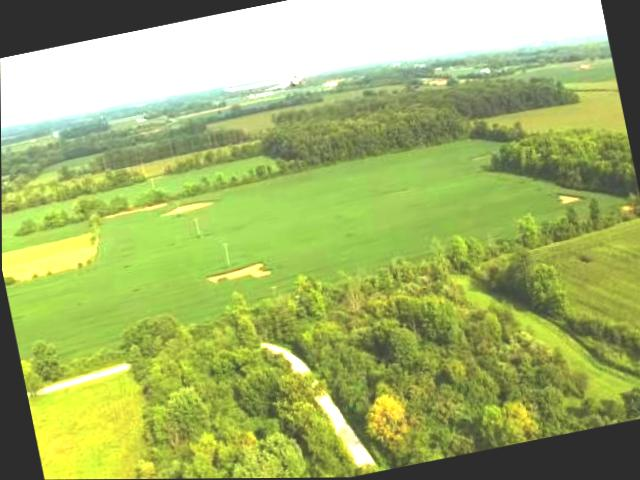uav: (215, 46, 361, 112)
